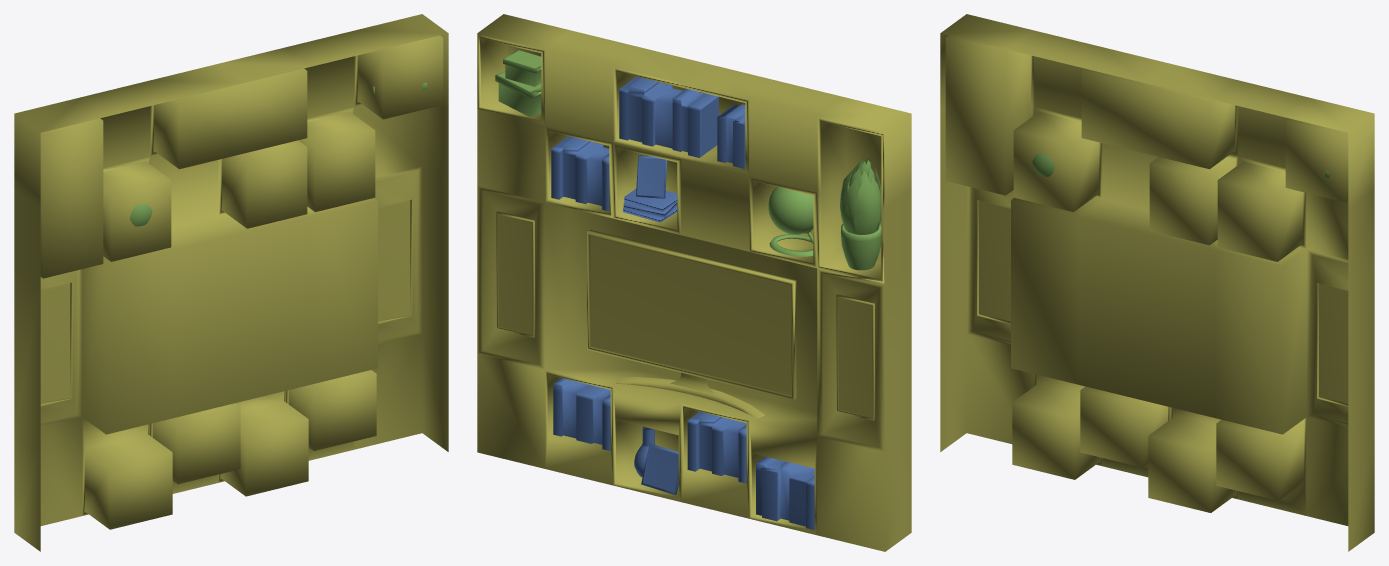
Rendered from BIBLIO.fbx.
3 renders of one model, left to right at view 1: azimuth 30°, elevation 25°; view 2: azimuth 150°, elevation 25°; view 3: azimuth 330°, elevation 25°, orthographic.
Parts seen in each view (by area): view 1: Bibliotheque_low; view 2: Bibliotheque_low, TV_2_low, Livres_1_low, Livres_4_low, Livres_3_low, Livres_4_low1, Livres_2_low, Plant_1_low, Globe_2_low, Livres_5_low, Cadre_vase_1_low, Plant_2_low (+6 smaller); view 3: Bibliotheque_low.
Part boxes in pixels (bbox=[...]): Bibliotheque_low: bbox=[14, 14, 448, 551]; Bibliotheque_low: bbox=[477, 14, 911, 551]; TV_2_low: bbox=[587, 229, 796, 399]; Livres_1_low: bbox=[619, 76, 718, 157]; Livres_4_low: bbox=[551, 136, 609, 211]; Livres_3_low: bbox=[756, 456, 814, 529]; Livres_4_low1: bbox=[687, 412, 746, 483]; Livres_2_low: bbox=[553, 378, 610, 450]; Plant_1_low: bbox=[840, 157, 881, 234]; Globe_2_low: bbox=[768, 187, 813, 243]; Livres_5_low: bbox=[717, 104, 745, 168]; Cadre_vase_1_low: bbox=[641, 443, 678, 494]; Plant_2_low: bbox=[840, 224, 881, 270]; Bibliotheque_low: bbox=[940, 14, 1374, 551].
Bounding box in the file's own units: 247 × 243 × 29.51.
